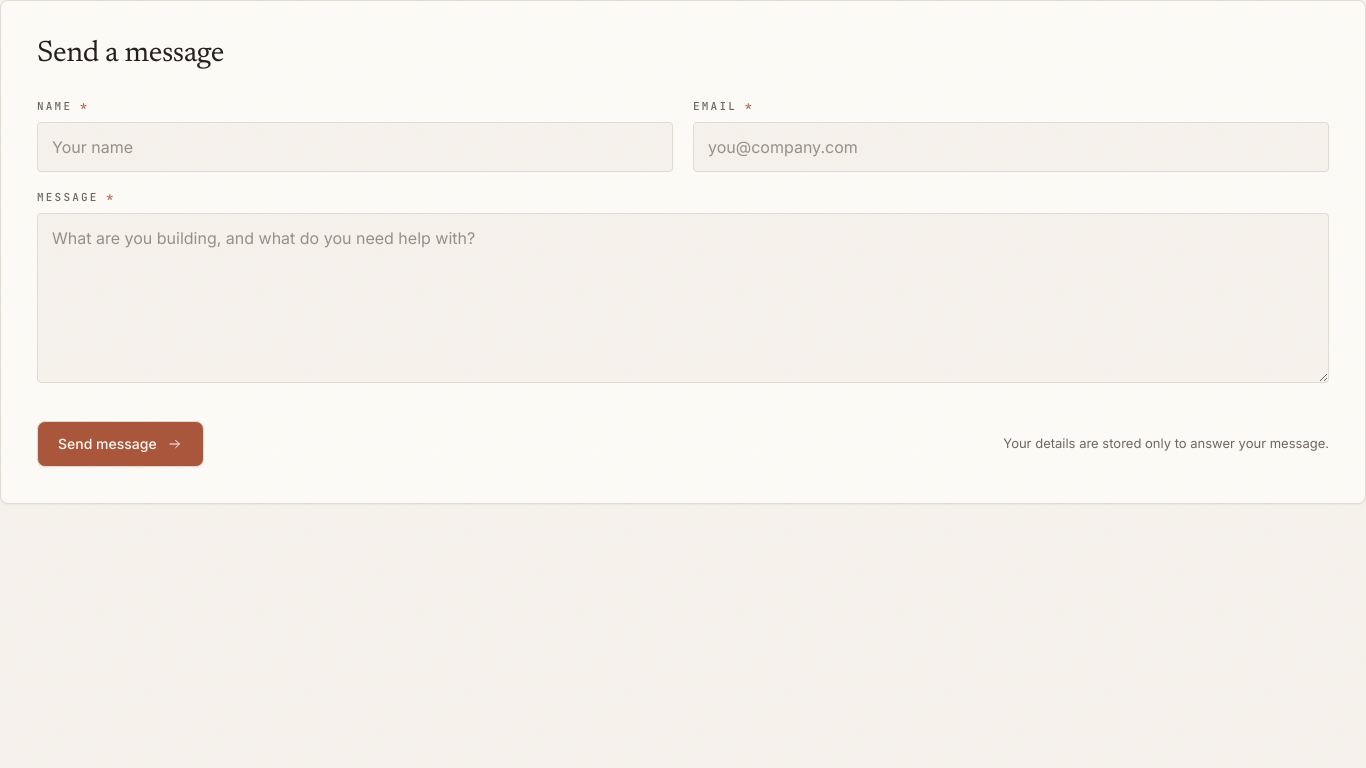
Scenario: <ContactForm /> › shows a length error for a message under 20 characters
This screenshot has width=1366, height=768.
Type "Sara Ahmed" into the field labelled "Name *" at [355, 146], box 37,122 -> 673,172
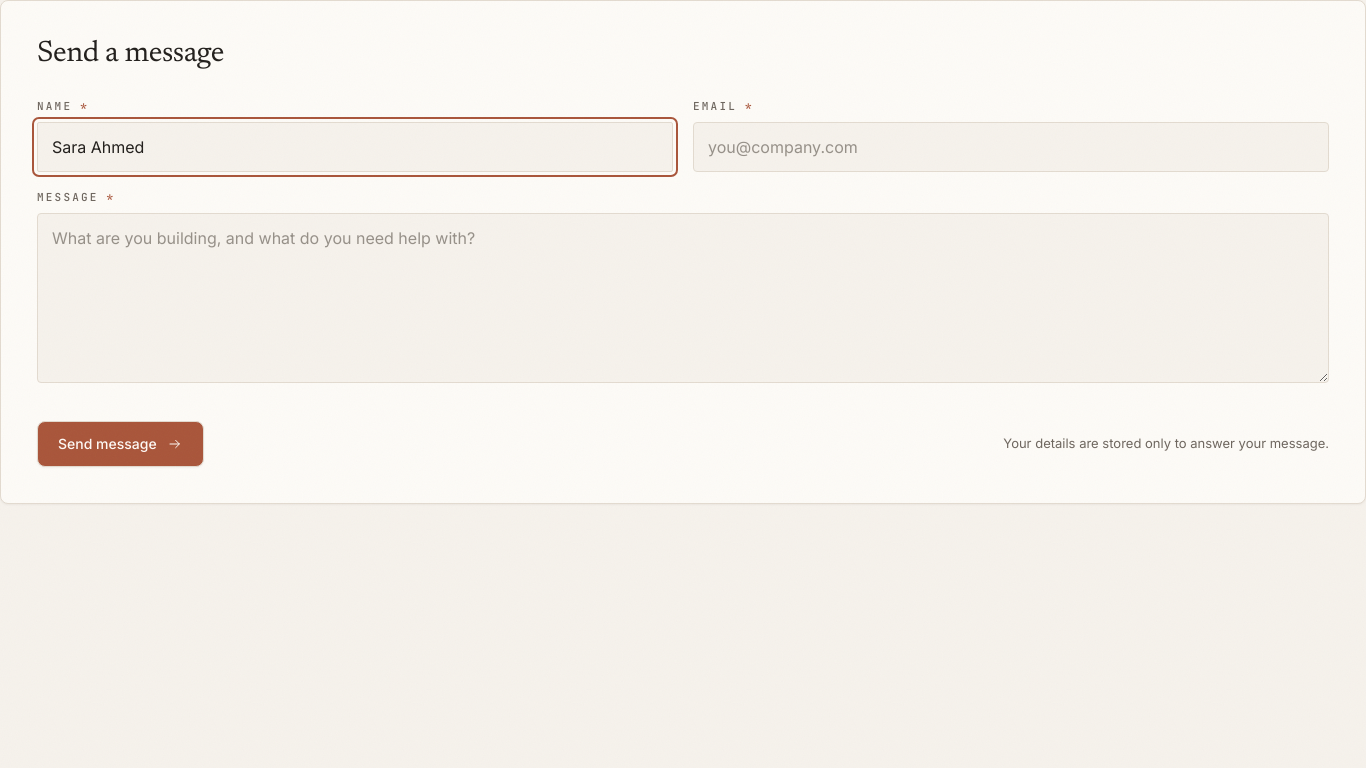
Type "sara@example.com" into the field labelled "Email *" at [1011, 146], box 693,122 -> 1329,172
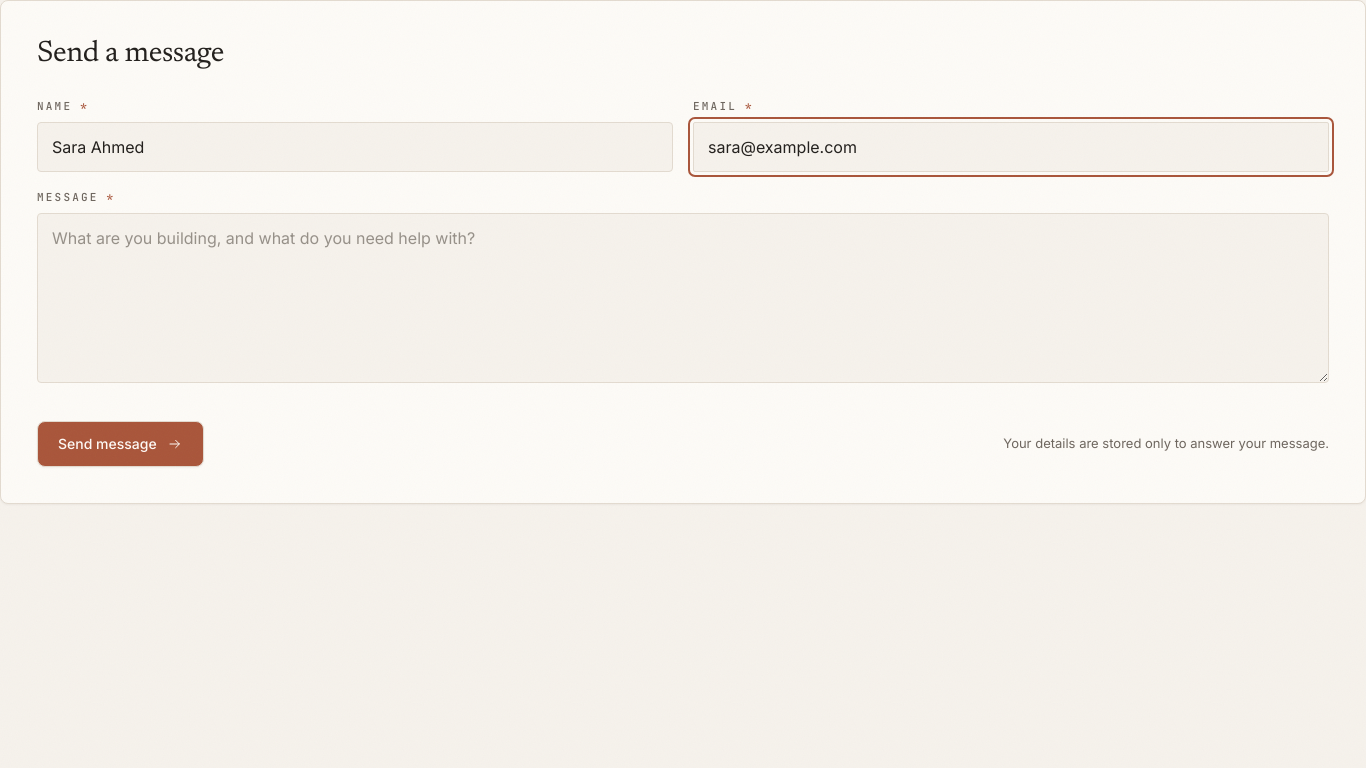
Type "too short" into the text box labelled "Message *" at [683, 298], box 37,212 -> 1329,382
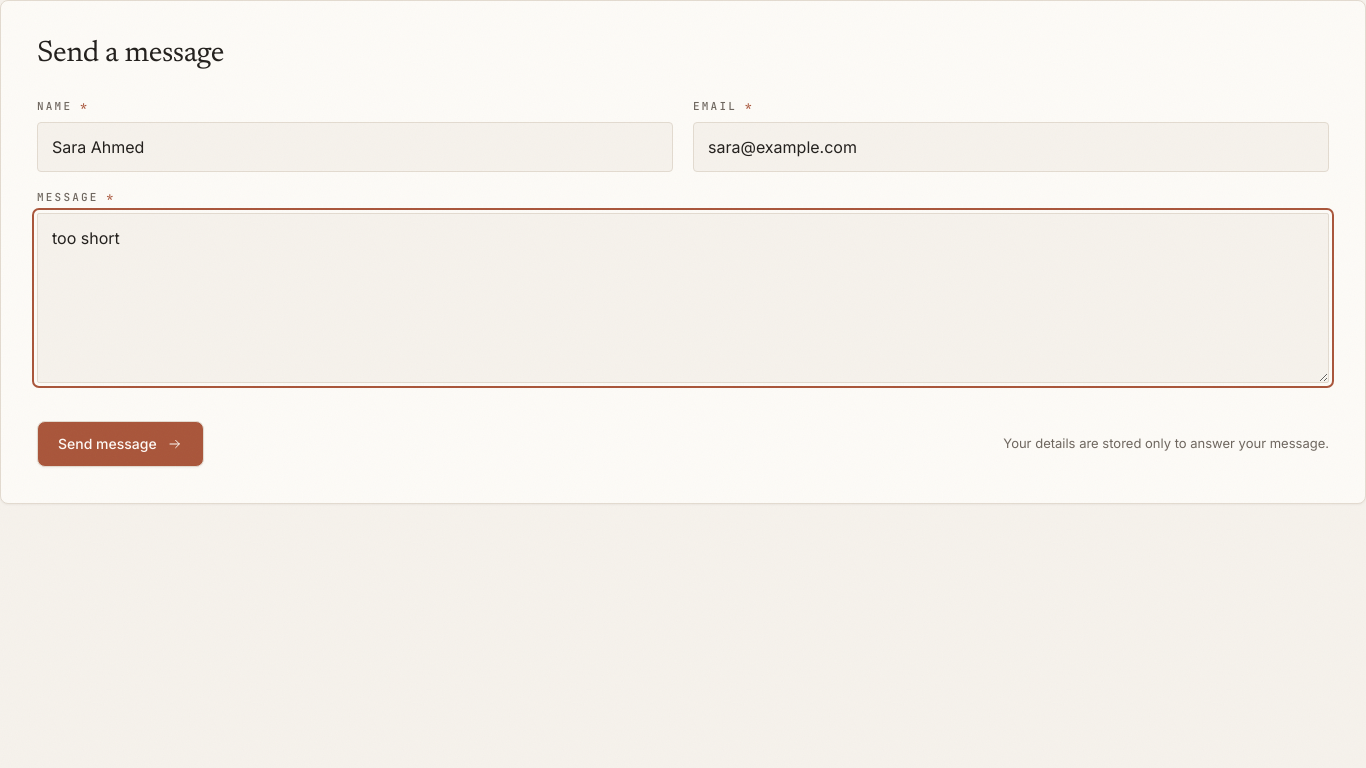
Click the button "Send message" at [120, 444], box 37,420 -> 204,466
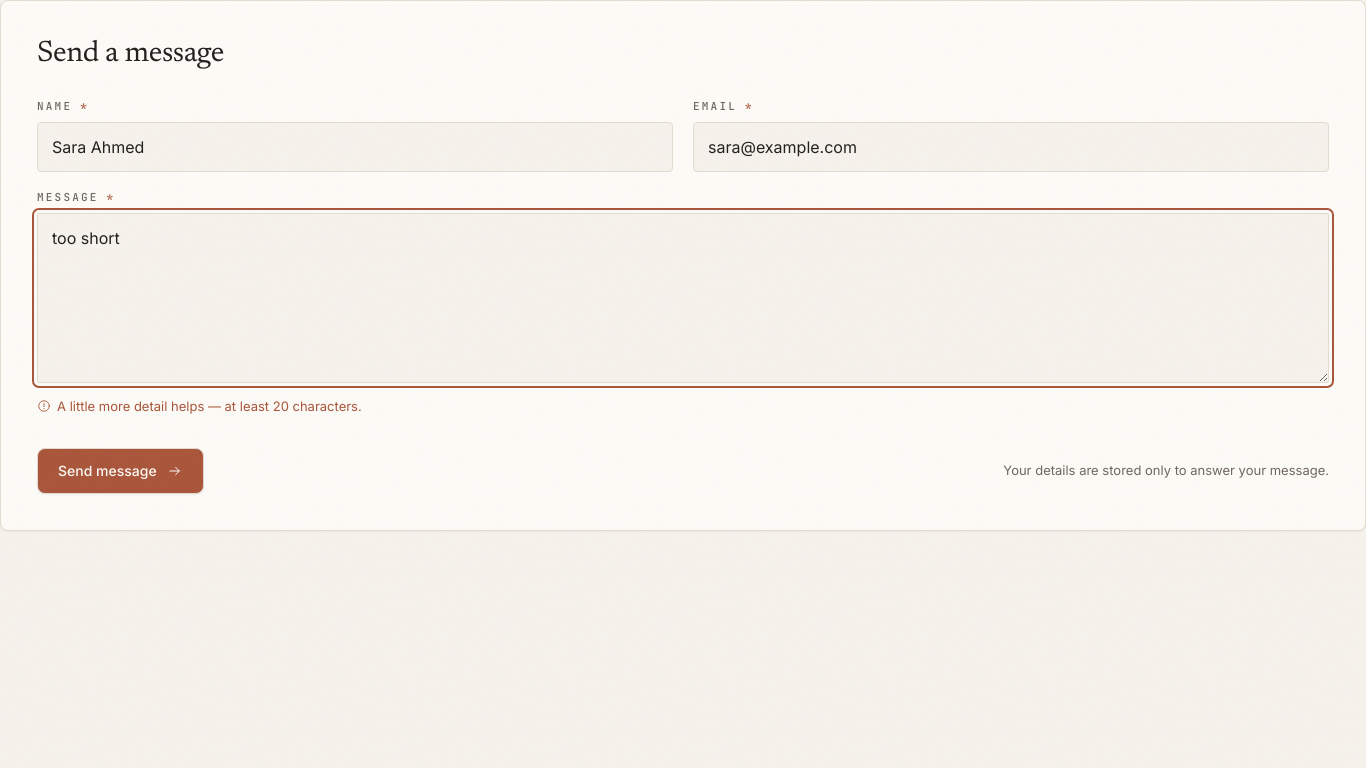
Expected: the text "A little more detail helps — at least 20 characters." is shown, 37,398 -> 362,414
